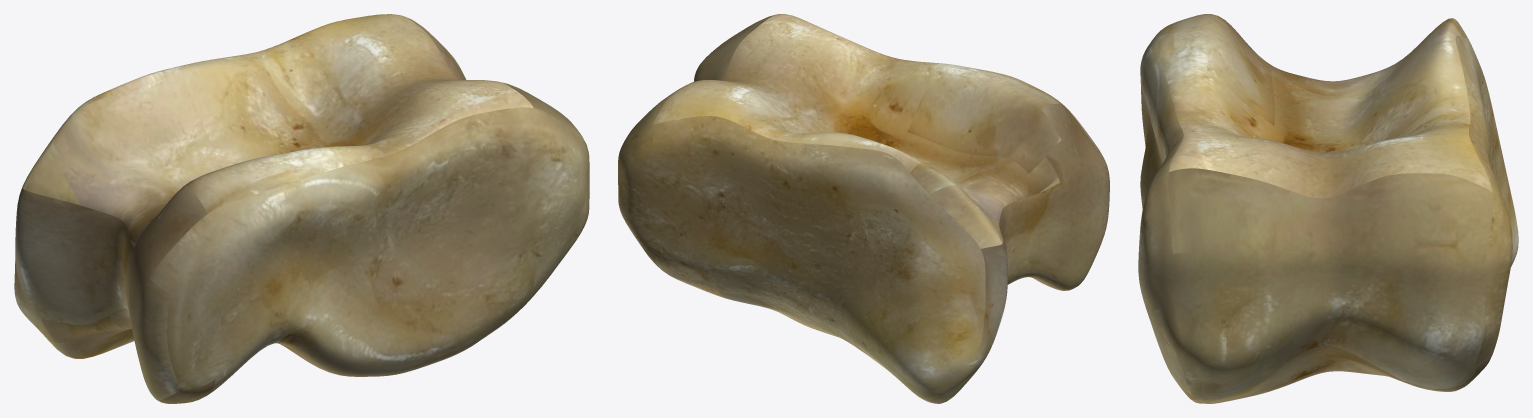
The model's file is asyk.glb.
The picture shows the model from 3 angles, left to right: view 1: azimuth 30°, elevation 25°; view 2: azimuth 150°, elevation 25°; view 3: azimuth 270°, elevation 25°; orthographic projection. The views are drawn at different scales.
Parts seen in each view (by area): view 1: Cube; view 2: Cube; view 3: Cube.
Boxes of the visible parts, x1,y1,x2,y2 form: Cube: (14,14,589,403); Cube: (618,14,1109,403); Cube: (1138,14,1518,403).
Bounding box in the file's own units: 0.7171 × 0.4237 × 0.4816.
1 material, 1 textured.
